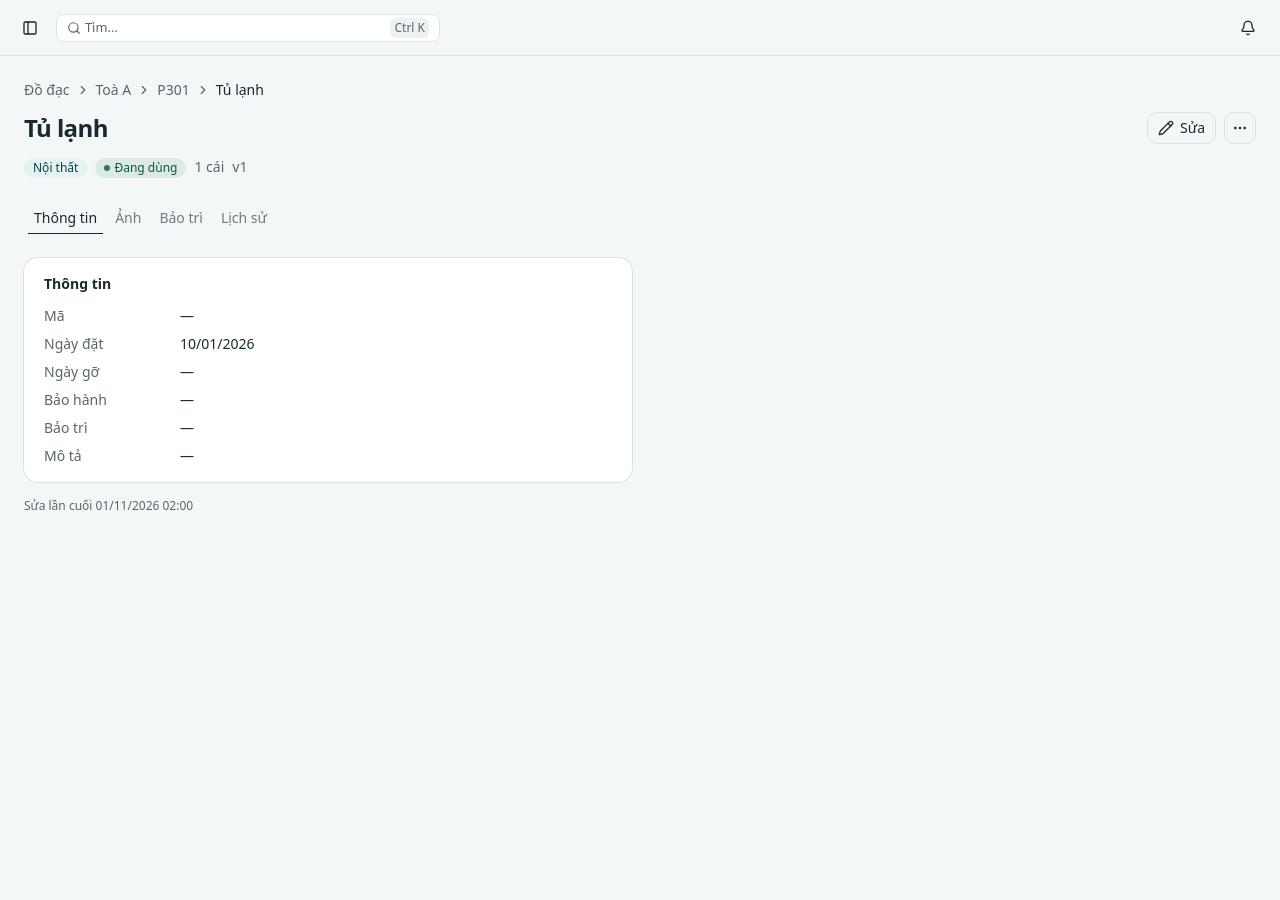
movesToAnotherPlace
This screenshot has width=1280, height=900.
Click the button named "Thao tác khác": click(1240, 128) [1224,112,1256,144]
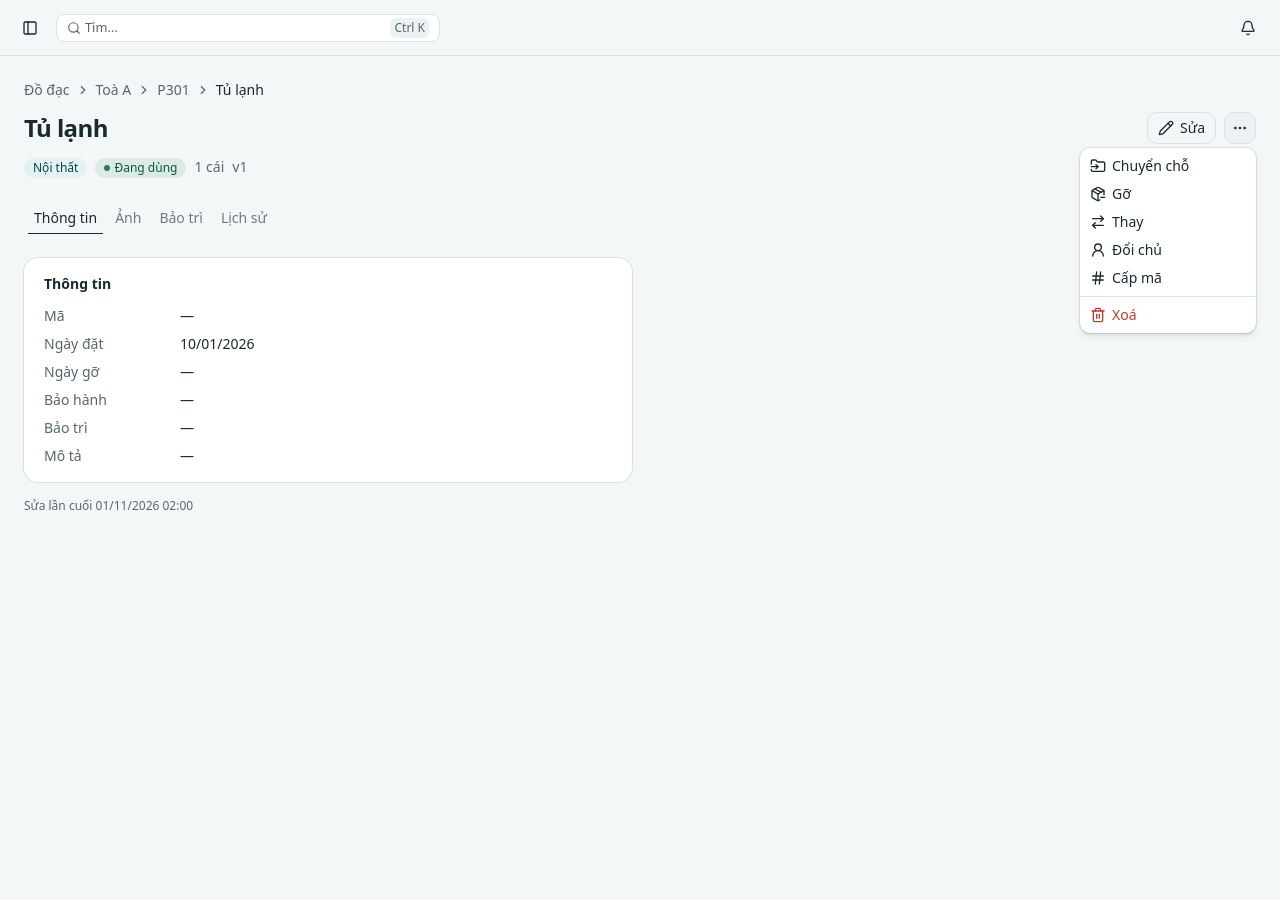
Click the menu item "Chuyển chỗ": click(1140, 166) [1090,156,1189,175]
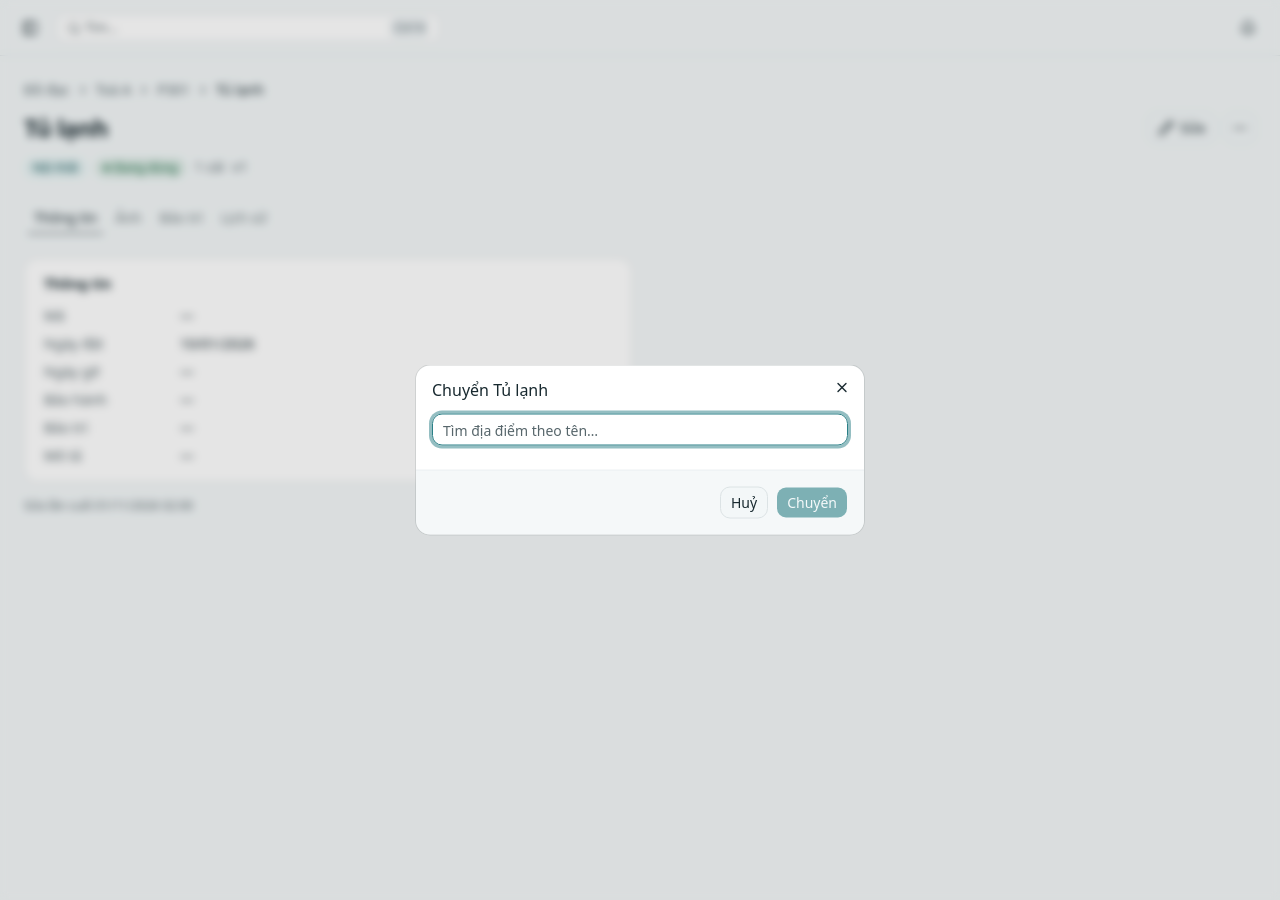
In the search field labelled "Tìm địa điểm": (640, 430) [432,414,848,446], type "P30"
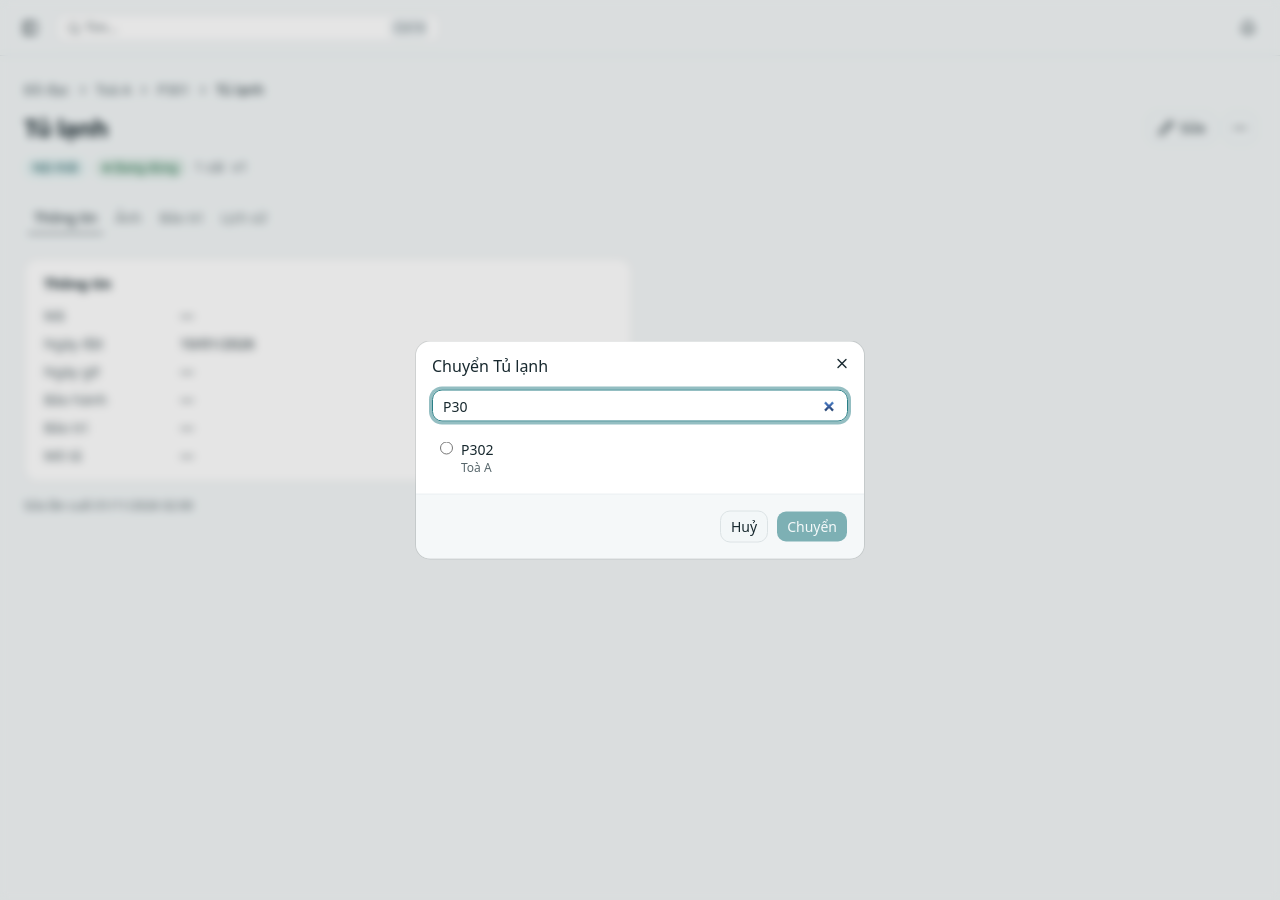
Expected: the radio button labelled "P302" is shown
Click the radio button labelled "P302": click(446, 448) [440,442,453,454]
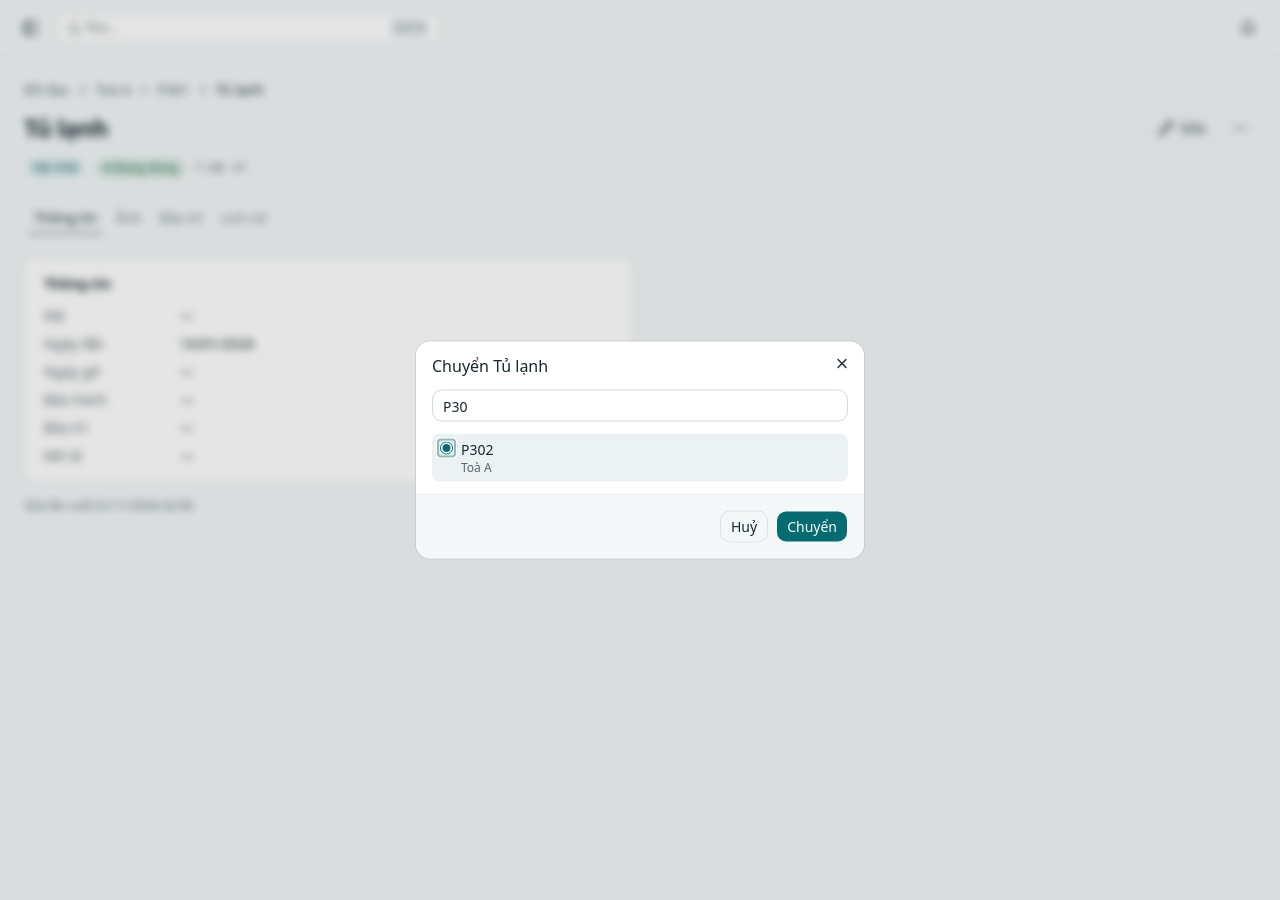
Click the button "Chuyển": click(812, 526) [776,510,848,542]
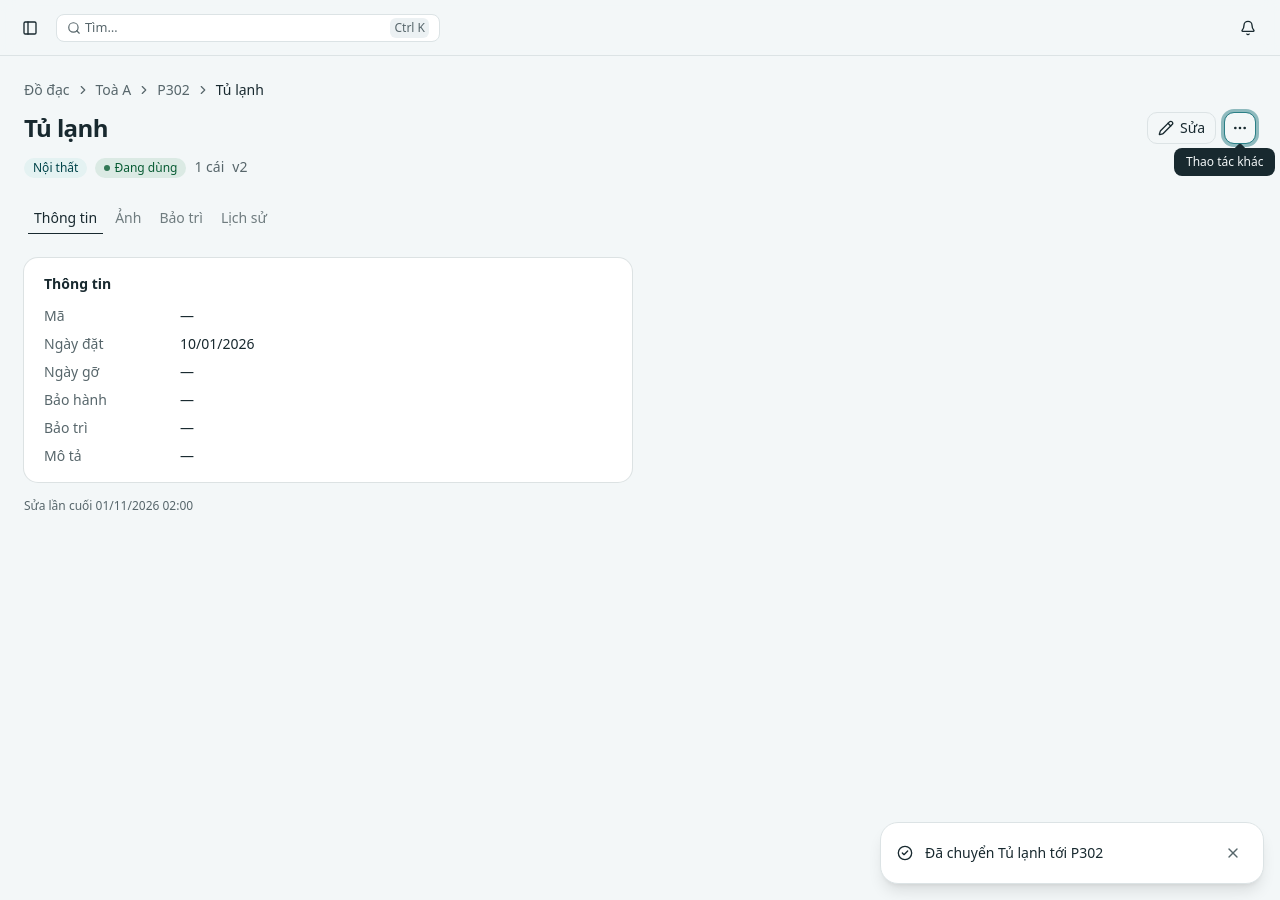
Expected: the link "P302" is shown, [157,80,190,100]
